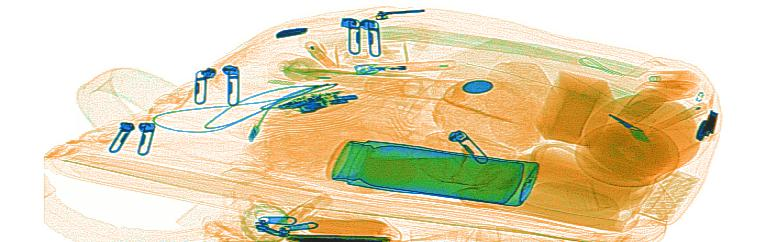lighter: (352, 54, 458, 77)
plasticBottleWithaNozzle: (636, 69, 705, 95)
